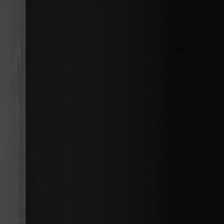silk_spot: (10, 29, 22, 84)
